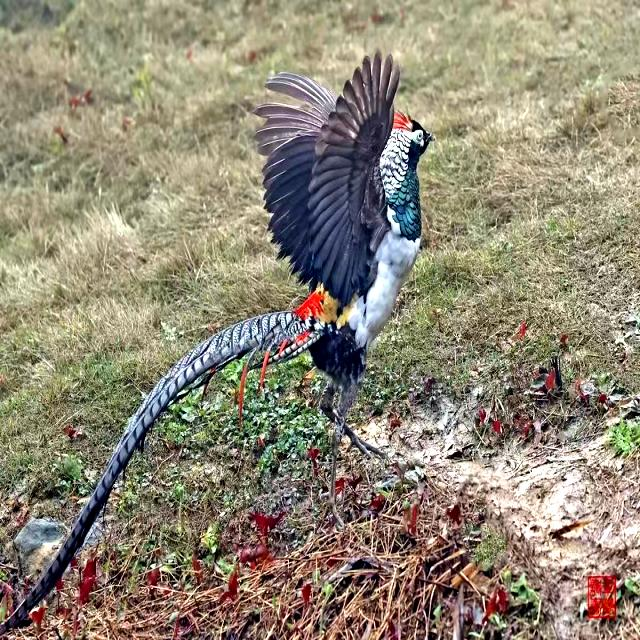Chrysolophus amherstiae: (0, 311, 336, 634)
